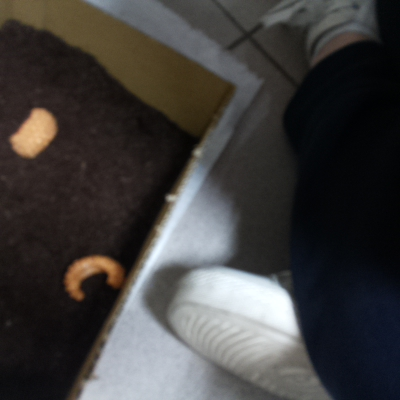eggs: (59, 246, 128, 311), (4, 103, 66, 160)
